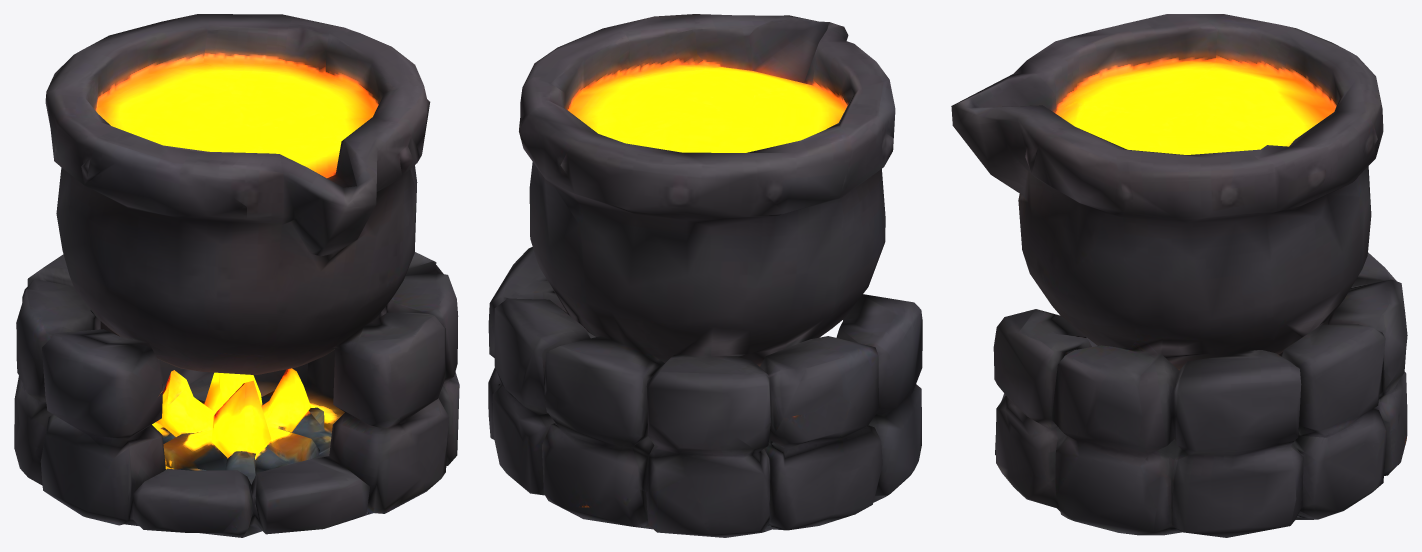
File: fg_cauldron-BYoibwMC.glb
3 views of the same model, side by side, from view 1: azimuth 30°, elevation 25°; view 2: azimuth 150°, elevation 25°; view 3: azimuth 270°, elevation 25° (orthographic).
Parts seen in each view (by area): view 1: tripo_node_905d9372-40ca-457f-9172-57da9a0e61ef; view 2: tripo_node_905d9372-40ca-457f-9172-57da9a0e61ef; view 3: tripo_node_905d9372-40ca-457f-9172-57da9a0e61ef.
Part boxes in pixels (x1,y1,x2,y2): tripo_node_905d9372-40ca-457f-9172-57da9a0e61ef: [14, 14, 459, 537]; tripo_node_905d9372-40ca-457f-9172-57da9a0e61ef: [488, 14, 922, 537]; tripo_node_905d9372-40ca-457f-9172-57da9a0e61ef: [951, 14, 1407, 537].
Bounding box in the file's own units: 1.84 × 1.66 × 1.9.
Materials: 1 (1 with a texture image).
